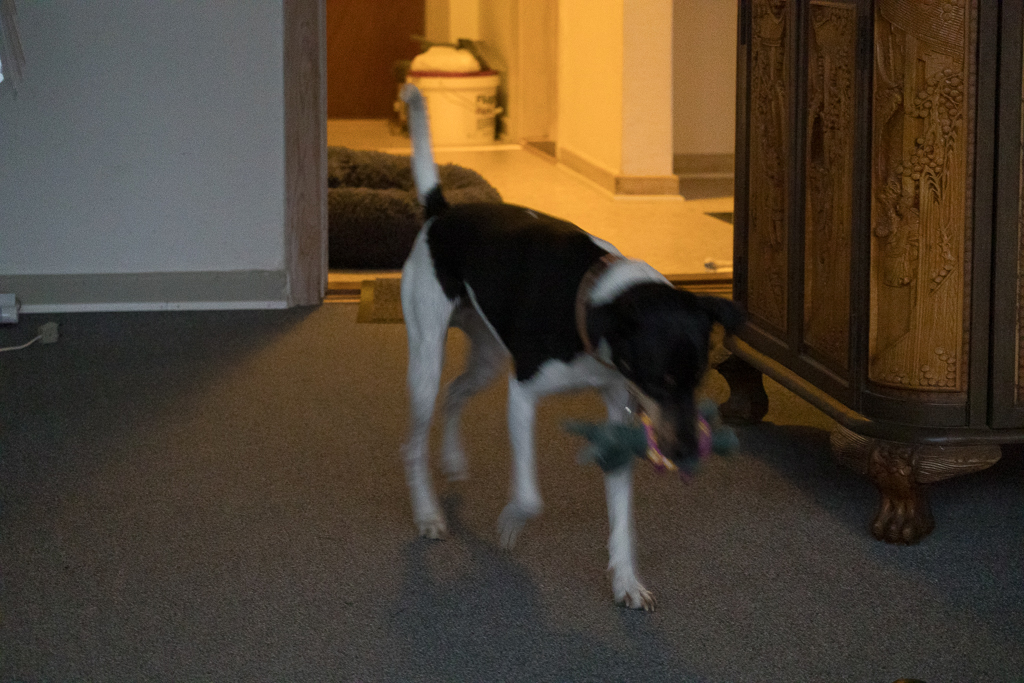Dog: (379, 81, 770, 629)
Humanoid: (557, 386, 754, 485)
